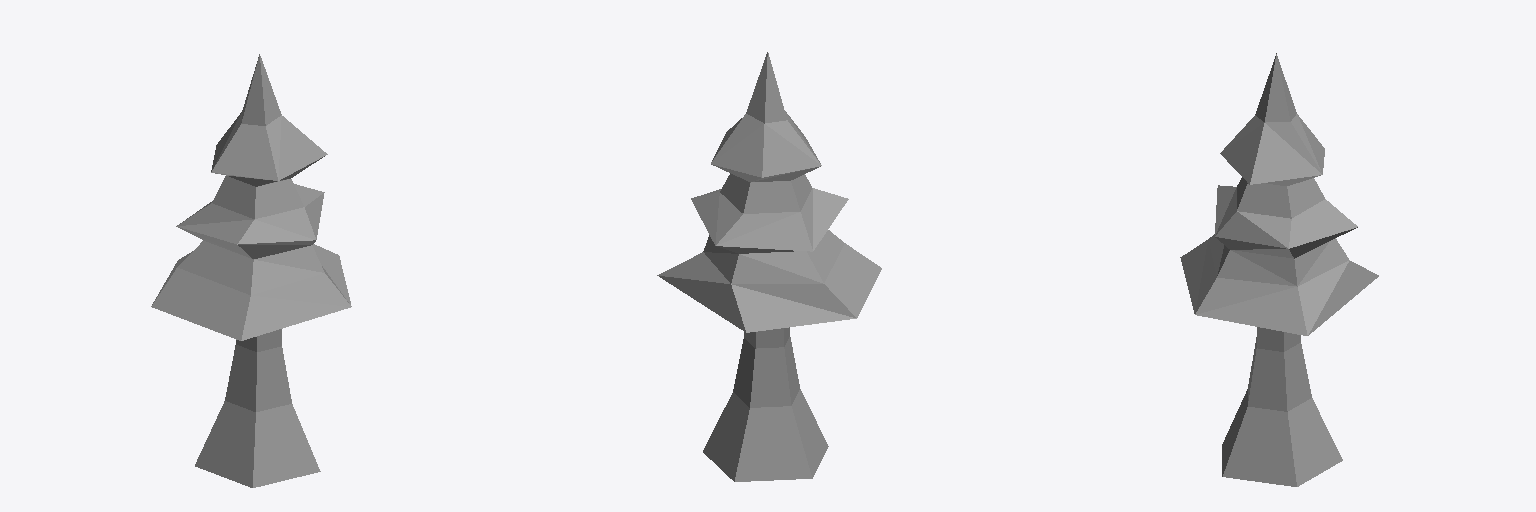
The model's file is tree_fir.obj.
3 renders of one model, left to right at view 1: azimuth 30°, elevation 25°; view 2: azimuth 150°, elevation 25°; view 3: azimuth 270°, elevation 25°, orthographic.
Size of the model in its own units: 12.73 by 25.51 by 11.31.